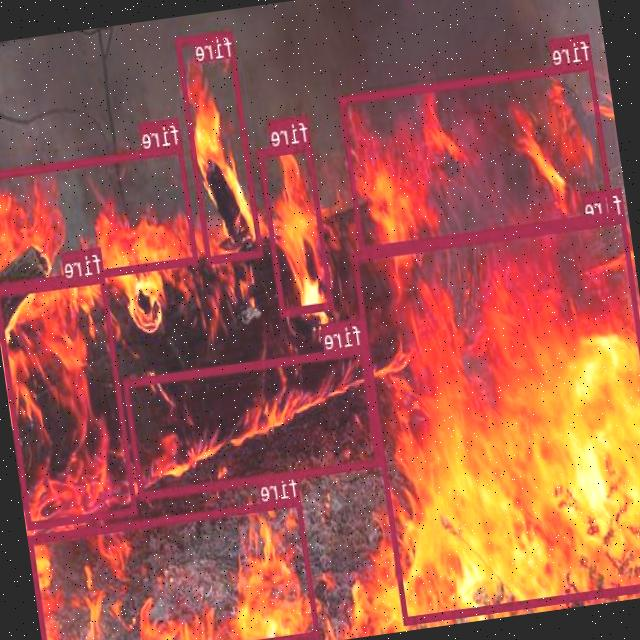fire: (353, 214, 640, 623), (340, 59, 616, 254), (29, 497, 321, 640), (124, 346, 381, 499), (0, 273, 139, 528), (0, 144, 199, 289), (176, 28, 264, 262), (258, 142, 336, 315)
